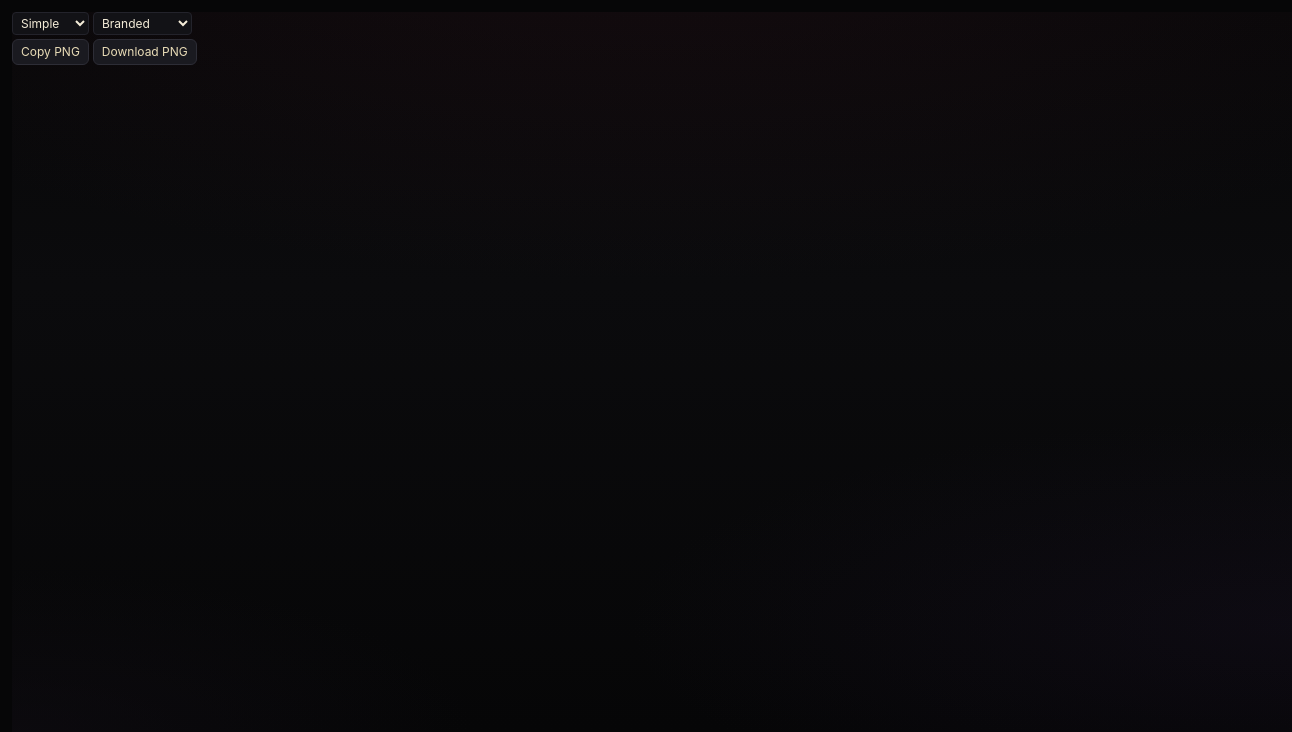
Test: CharacterImageExportActions › download uses file save, not clipboard
The image size is (1292, 732).
Click the button "Download PNG": click(145, 52) left=93, top=39, right=197, bottom=65
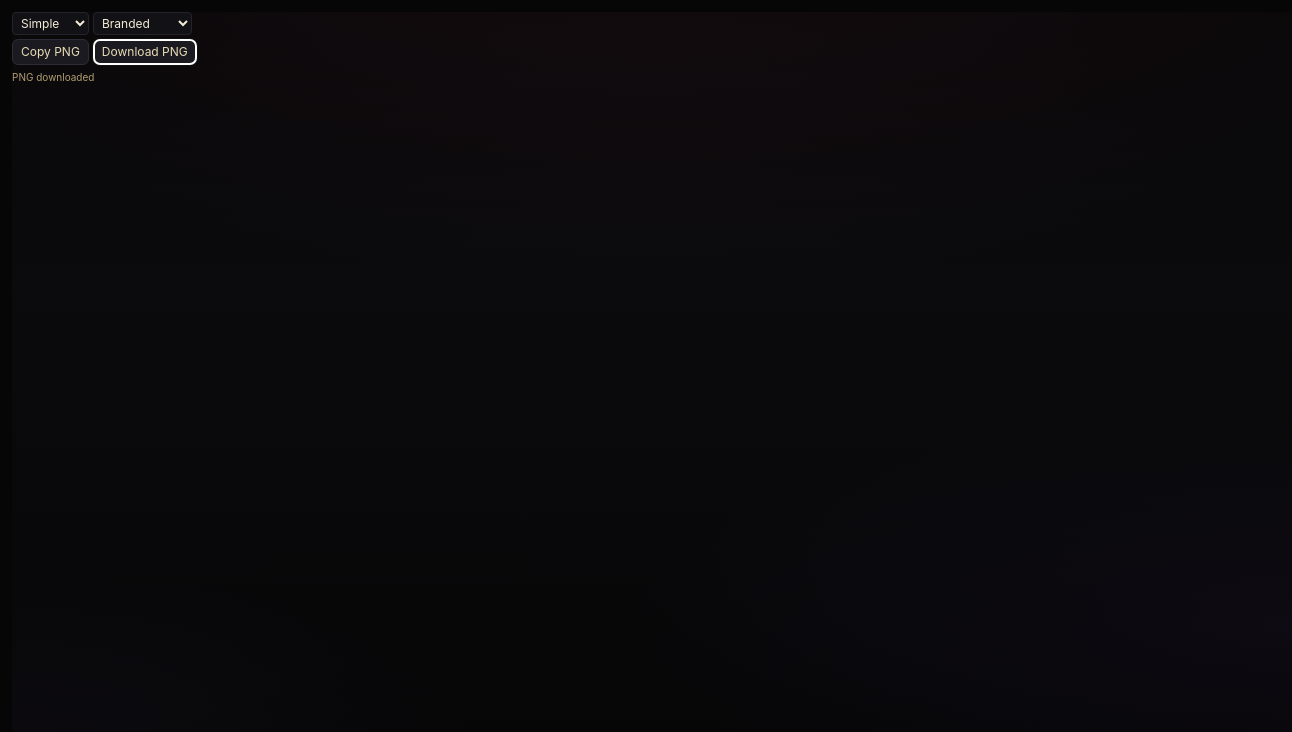
Result: the text "PNG downloaded" is shown at left=12, top=71, right=94, bottom=83
